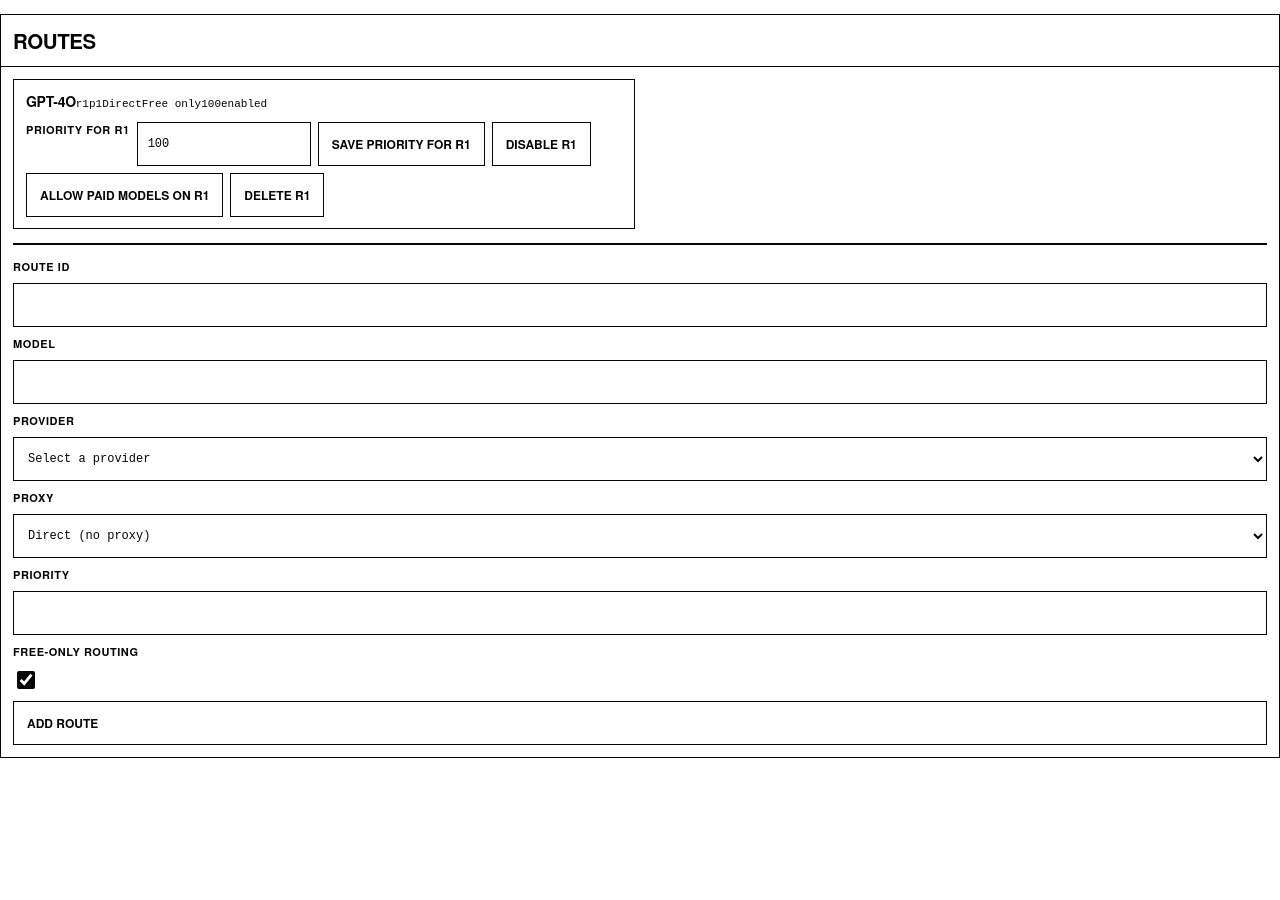
Scenario: RoutesPanel › surfaces an invalid_route_config failure verbatim
Check: the text "gpt-4o" is shown, box [26, 91, 76, 111]
Type "r2" into the field labelled "Route id" at (640, 305), box [13, 283, 1267, 327]
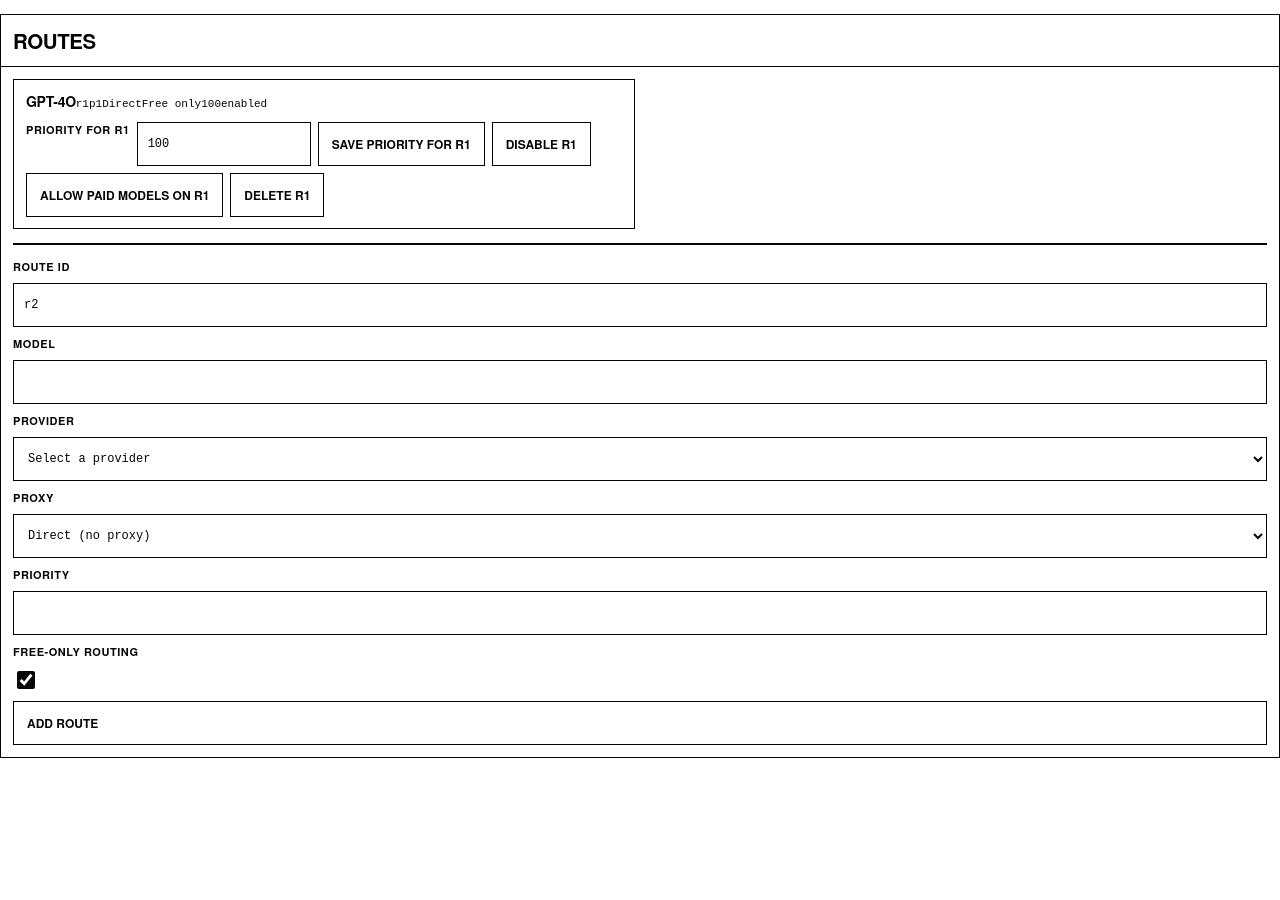
Type "m" into the field labelled "Model" at (640, 382), box [13, 360, 1267, 404]
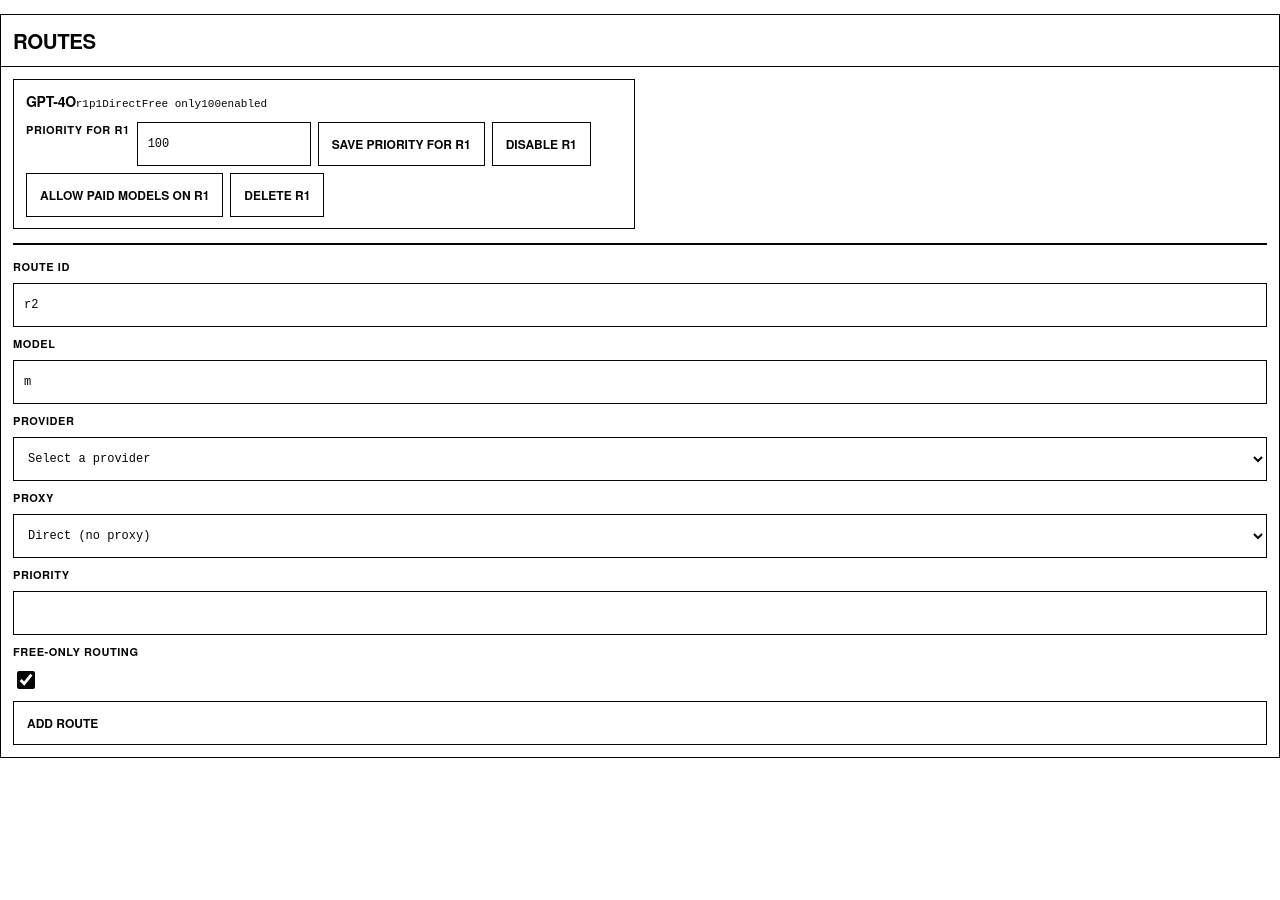
Select "ghost" in the dropdown labelled "Provider" at (640, 459), box [13, 437, 1267, 481]
Click the button "Add route" at (63, 723), box [13, 701, 1267, 745]
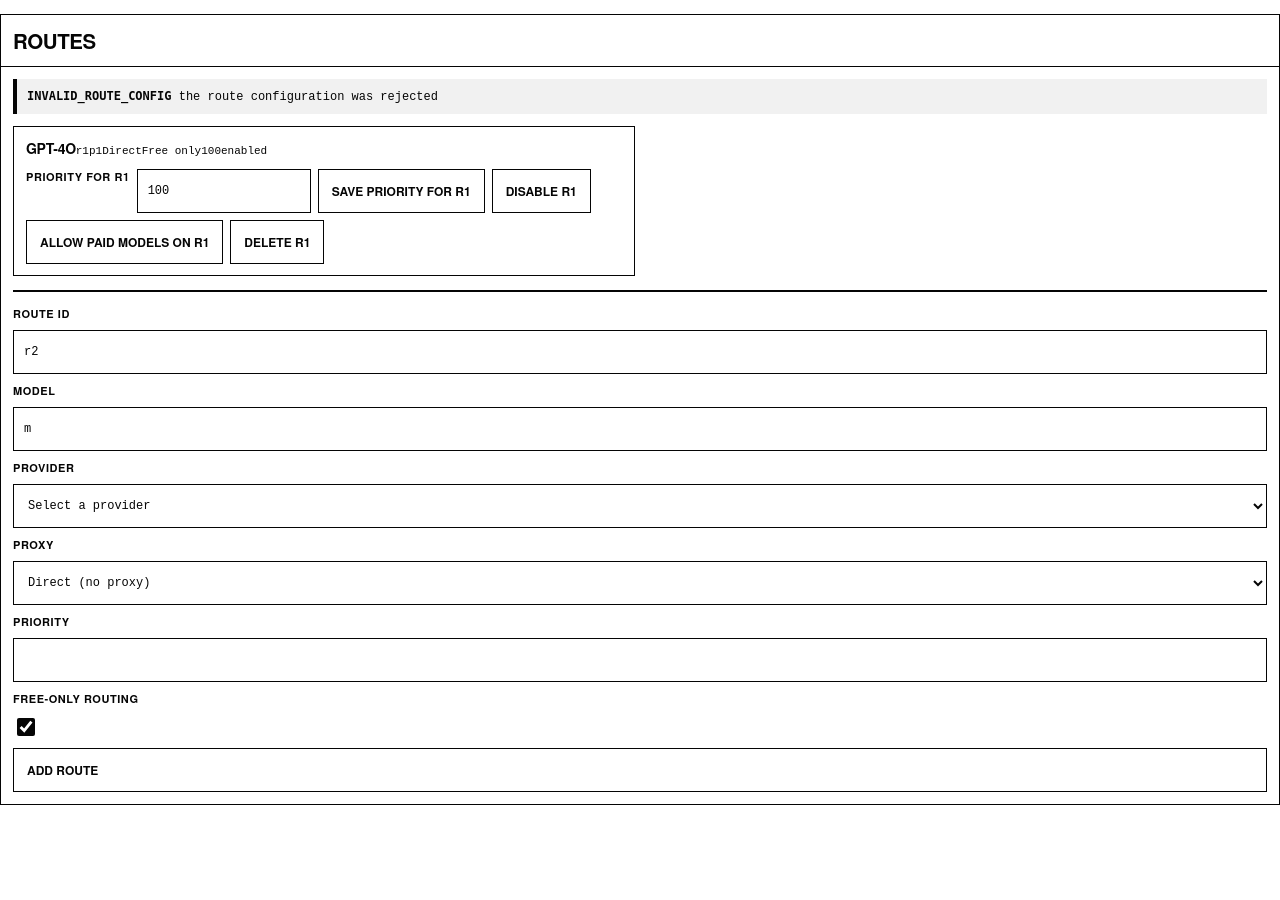
Check: the message shows "invalid_route_config", box [27, 89, 172, 103]
